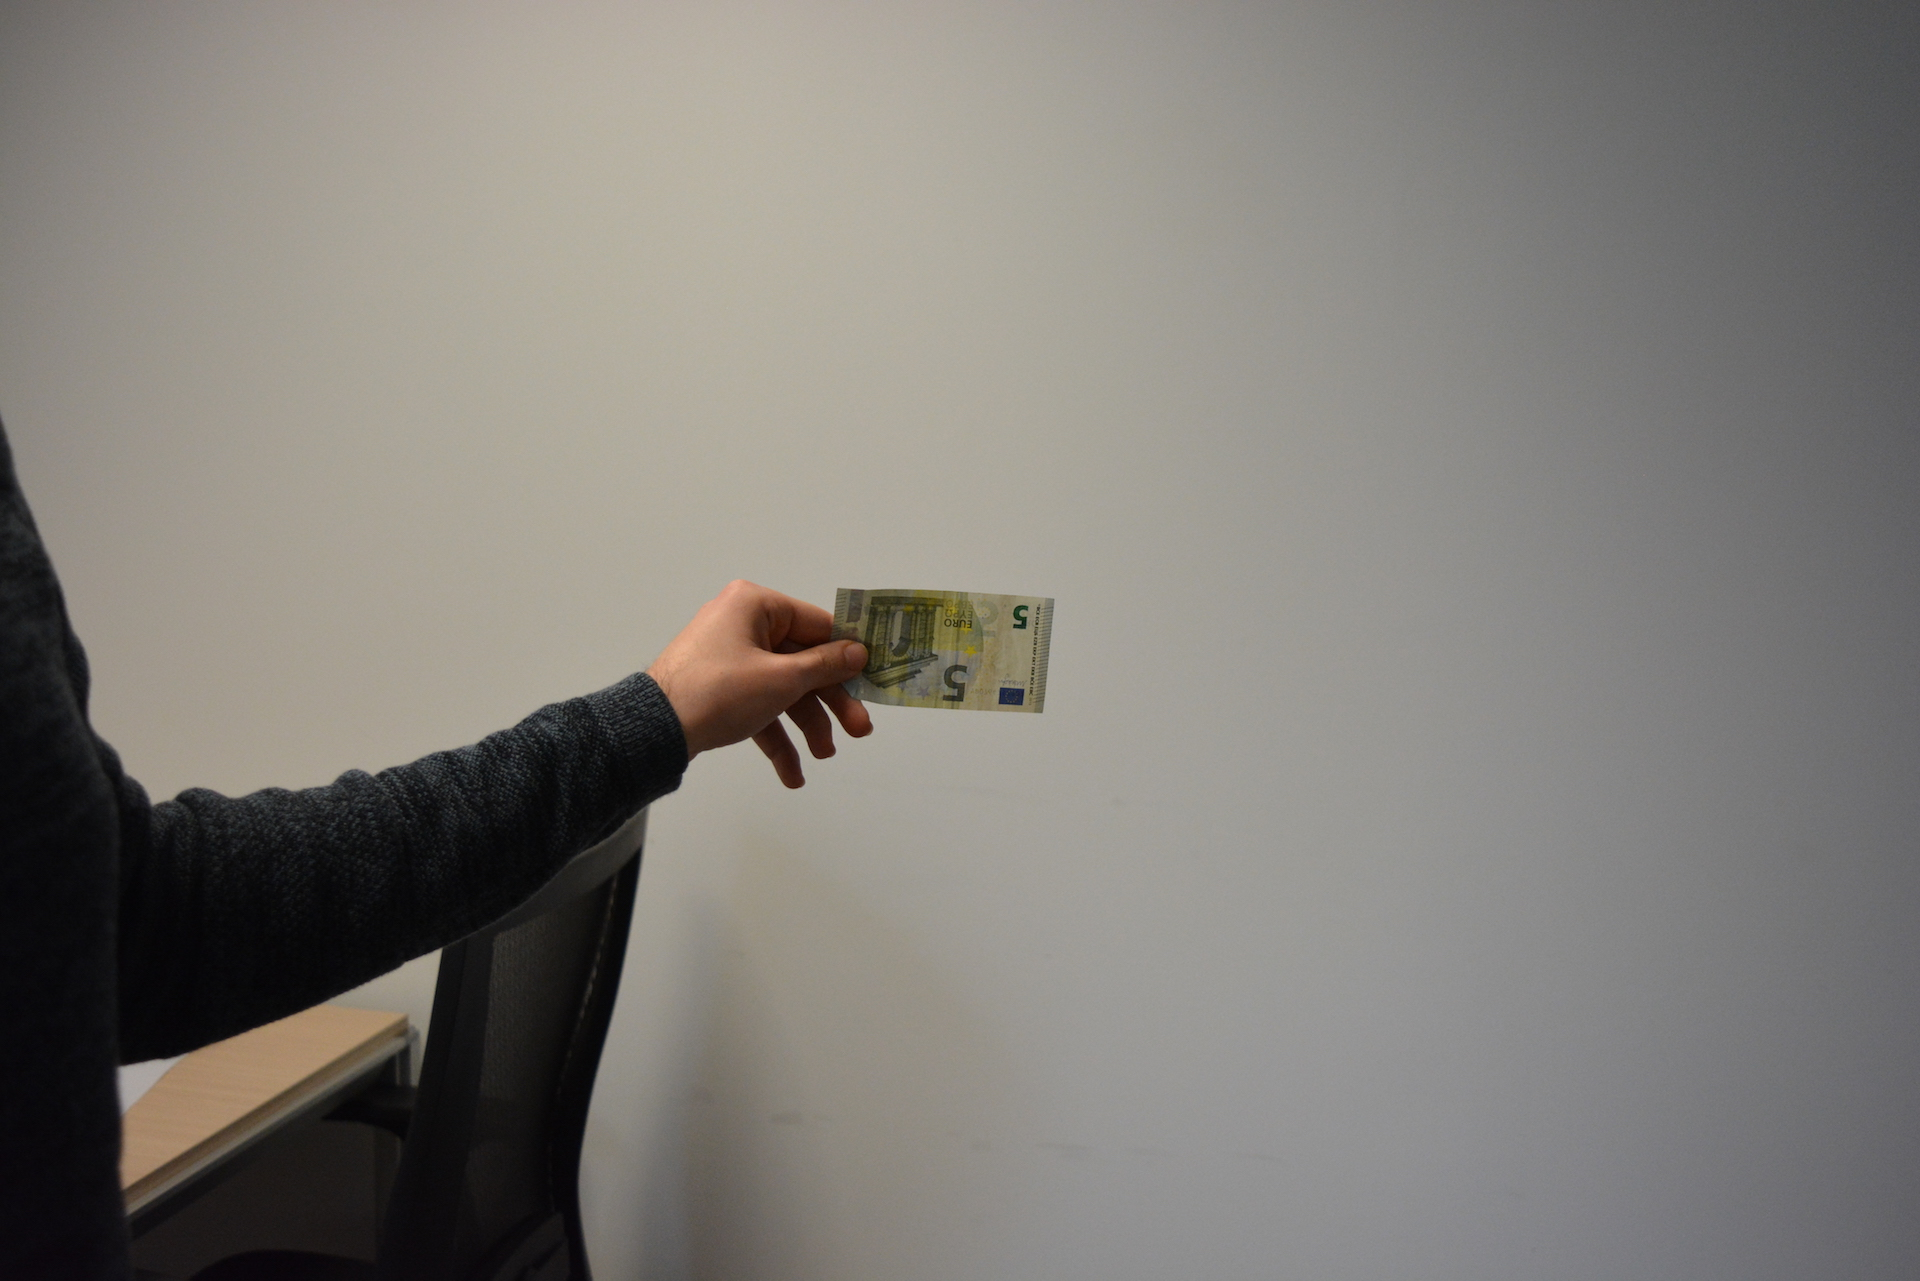billete: (828, 588, 1057, 715)
